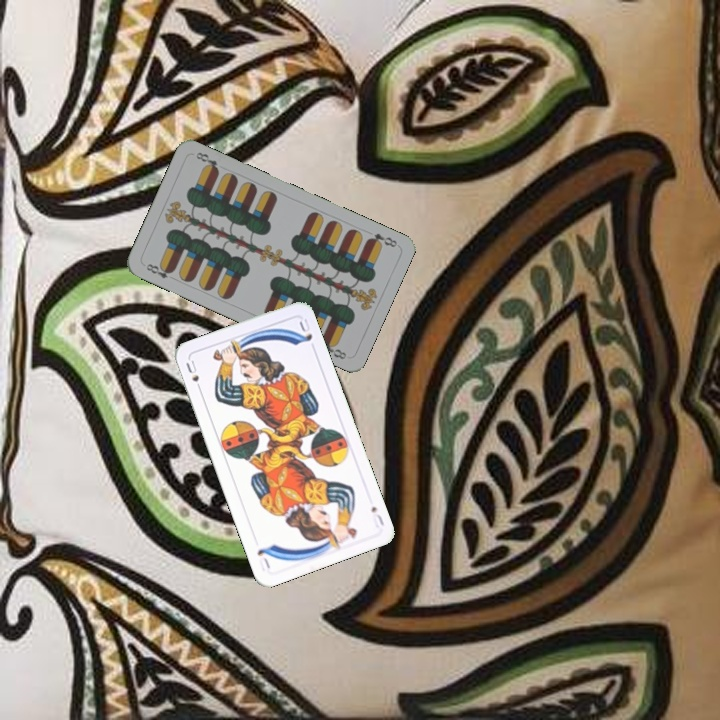E8: (363, 229, 400, 250), (142, 260, 176, 281)
SU: (182, 356, 205, 395), (367, 502, 387, 531)
